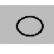no answer: (15, 15, 45, 38)
